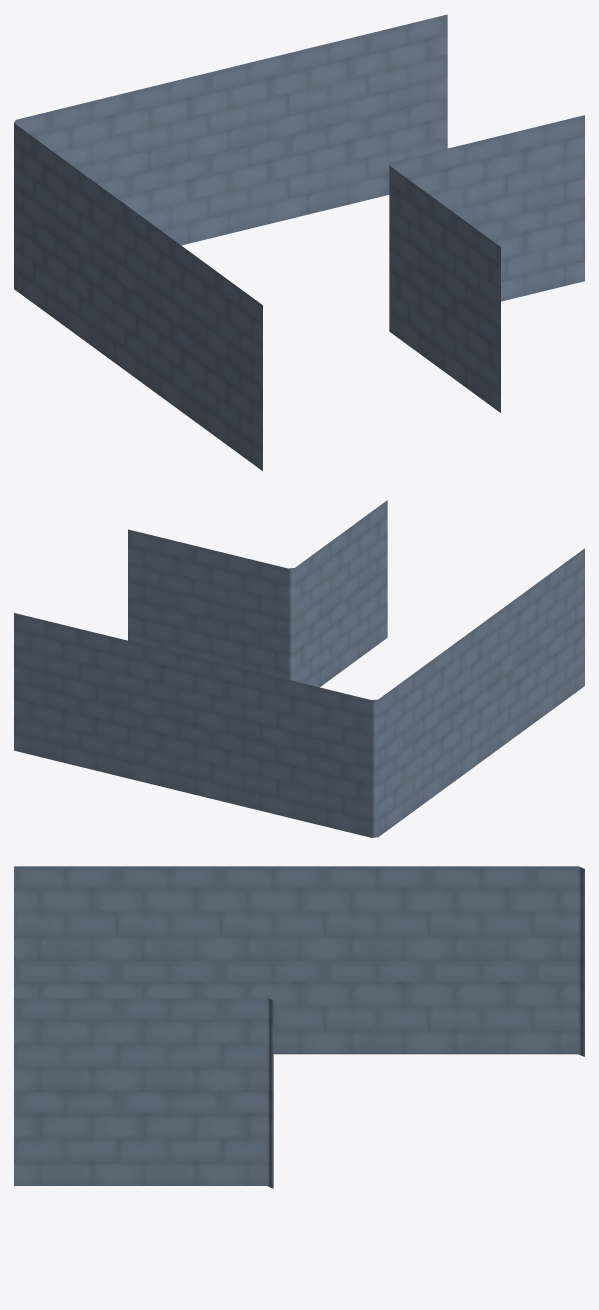
The model's file is TileCornerHallway.fbx.
3 renders of one model, top to bottom at view 1: azimuth 30°, elevation 25°; view 2: azimuth 150°, elevation 25°; view 3: azimuth 270°, elevation 25°, orthographic. The views are drawn at different scales.
Visible parts, largest first — view 1: TileCornerHallway; view 2: TileCornerHallway; view 3: TileCornerHallway.
Boxes of the visible parts, left/top/right/bottom form: TileCornerHallway: left=14, top=14, right=584, bottom=470; TileCornerHallway: left=14, top=500, right=584, bottom=837; TileCornerHallway: left=14, top=866, right=584, bottom=1188.
Bounding box in the file's own units: 11 × 4 × 11.
